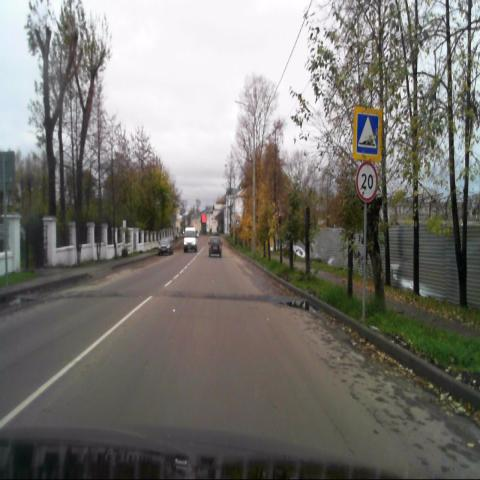3_24: (356, 163, 378, 201)
5_20: (354, 108, 382, 161)
